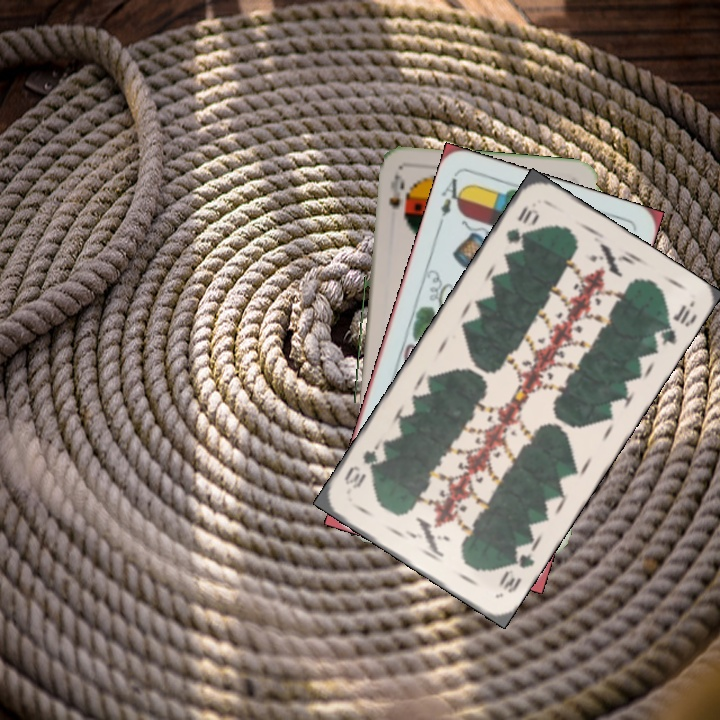EA: (434, 174, 469, 229)
G10: (495, 547, 537, 596), (501, 202, 542, 247)
SO: (385, 170, 407, 211)
